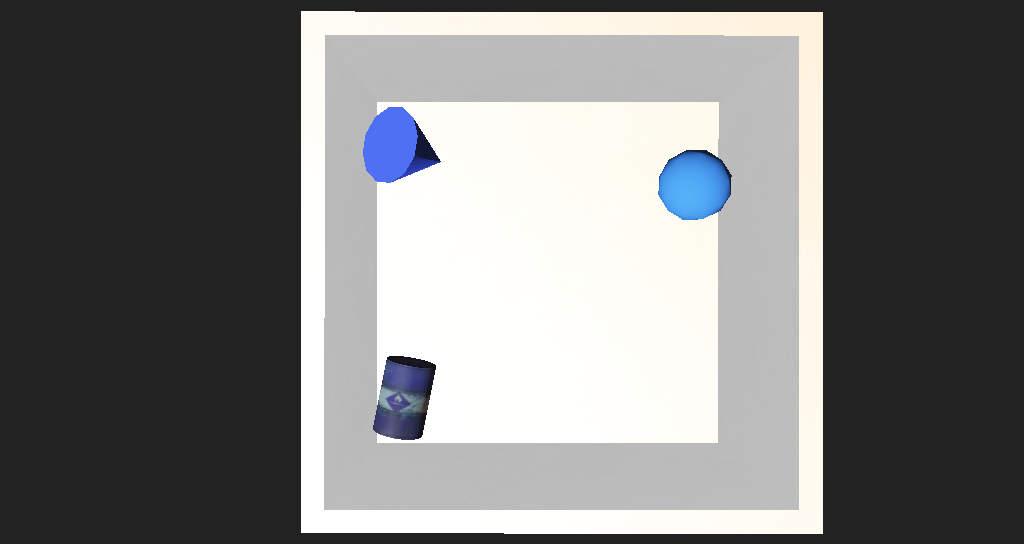cone: (344, 322, 411, 375)
cylinder: (330, 162, 438, 220)
sphere: (600, 193, 667, 236)
